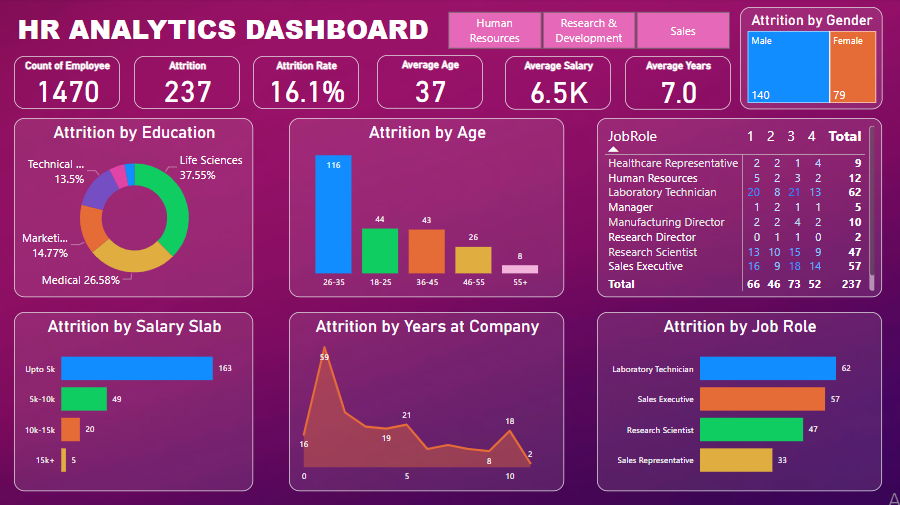

The dashboard page shown, as its layout file describes it:
{"tool":"powerbi","page":{"name":"HR_Analytics","canvas":[1280,720],"ordinal":0},"visuals":[{"type":"card","title":"Count of Employee","fields":{"Values":["CountNonNull(HR_Analytics.EmpID)"]},"box":[22.7,82.6,150.2,75.1],"z":0},{"type":"card","title":"Attrition","fields":{"Values":["Sum(HR_Analytics.AttritionCount)"]},"box":[192.8,82.6,150.2,75.1],"z":1000},{"type":"card","title":"Attrition Rate","fields":{"Values":["HR_Analytics.AttritionRate"]},"box":[361.4,82.6,150.2,75.1],"z":2000},{"type":"card","title":"Average Salary","fields":{"Values":["Avg(HR_Analytics.MonthlyIncome)"]},"box":[717.9,82.1,150.2,75.8],"z":3000},{"type":"card","title":"Average Age","fields":{"Values":["Avg(HR_Analytics.Age)"]},"box":[536.8,80.7,149.5,76.3],"z":4000},{"type":"card","title":"Average Years","fields":{"Values":["Avg(HR_Analytics.YearsAtCompany)"]},"box":[888.1,82.1,150.2,75.8],"z":5000},{"type":"donutChart","title":"Attrition by Education","fields":{"Y":["Sum(HR_Analytics.AttritionCount)"],"Category":["HR_Analytics.EducationField"]},"box":[22.4,170.5,339.4,254.2],"z":6000},{"type":"columnChart","title":"Attrition by Age","fields":{"Category":["HR_Analytics.AgeGroup"],"Y":["Sum(HR_Analytics.AttritionCount)"]},"box":[412.7,170.5,390.3,254.2],"z":7000},{"type":"pivotTable","fields":{"Rows":["HR_Analytics.JobRole"],"Columns":["HR_Analytics.JobSatisfaction"],"Values":["Sum(HR_Analytics.AttritionCount)"]},"box":[849.3,170.5,403.7,254.2],"z":8000},{"type":"barChart","title":"Attrition by Salary Slab","fields":{"Category":["HR_Analytics.SalarySlab"],"Y":["Sum(HR_Analytics.AttritionCount)"]},"box":[22.4,445.6,339.4,254.2],"z":9000},{"type":"barChart","title":"Attrition by Job Role","fields":{"Category":["HR_Analytics.JobRole"],"Y":["Sum(HR_Analytics.AttritionCount)"]},"box":[849.3,445.6,403.7,254.2],"z":10000},{"type":"areaChart","title":"Attrition by Years at Company","fields":{"Category":["HR_Analytics.YearsAtCompany"],"Y":["Sum(HR_Analytics.AttritionCount)"]},"box":[412.7,445.6,390.3,254.2],"z":11000},{"type":"treemap","title":"Attrition by Gender","fields":{"Group":["HR_Analytics.Gender"],"Values":["Sum(HR_Analytics.AttritionCount)"]},"box":[1051.2,13.5,201.9,145],"z":12000},{"type":"slicer","fields":{"Values":["HR_Analytics.Department"]},"box":[611.6,13.5,448.6,62.8],"z":13000},{"type":"textbox","box":[22.4,13.5,617.6,68.8],"z":13001}]}

Visuals, with their boxes in screenshot pixels (x1, y1, x2, y2), scaled from the page's 1280x720 canvas onto the 900x505 screenshot:
"Count of Employee" card: (x1=16, y1=58, x2=122, y2=111)
"Attrition" card: (x1=136, y1=58, x2=241, y2=111)
"Attrition Rate" card: (x1=254, y1=58, x2=360, y2=111)
"Average Salary" card: (x1=505, y1=58, x2=610, y2=111)
"Average Age" card: (x1=377, y1=57, x2=483, y2=110)
"Average Years" card: (x1=624, y1=58, x2=730, y2=111)
"Attrition by Education" donutChart: (x1=16, y1=120, x2=254, y2=298)
"Attrition by Age" columnChart: (x1=290, y1=120, x2=565, y2=298)
pivotTable - HR_Analytics.JobRole x HR_Analytics.JobSatisfaction: (x1=597, y1=120, x2=881, y2=298)
"Attrition by Salary Slab" barChart: (x1=16, y1=313, x2=254, y2=491)
"Attrition by Job Role" barChart: (x1=597, y1=313, x2=881, y2=491)
"Attrition by Years at Company" areaChart: (x1=290, y1=313, x2=565, y2=491)
"Attrition by Gender" treemap: (x1=739, y1=9, x2=881, y2=111)
slicer - HR_Analytics.Department: (x1=430, y1=9, x2=745, y2=54)
textbox: (x1=16, y1=9, x2=450, y2=58)
